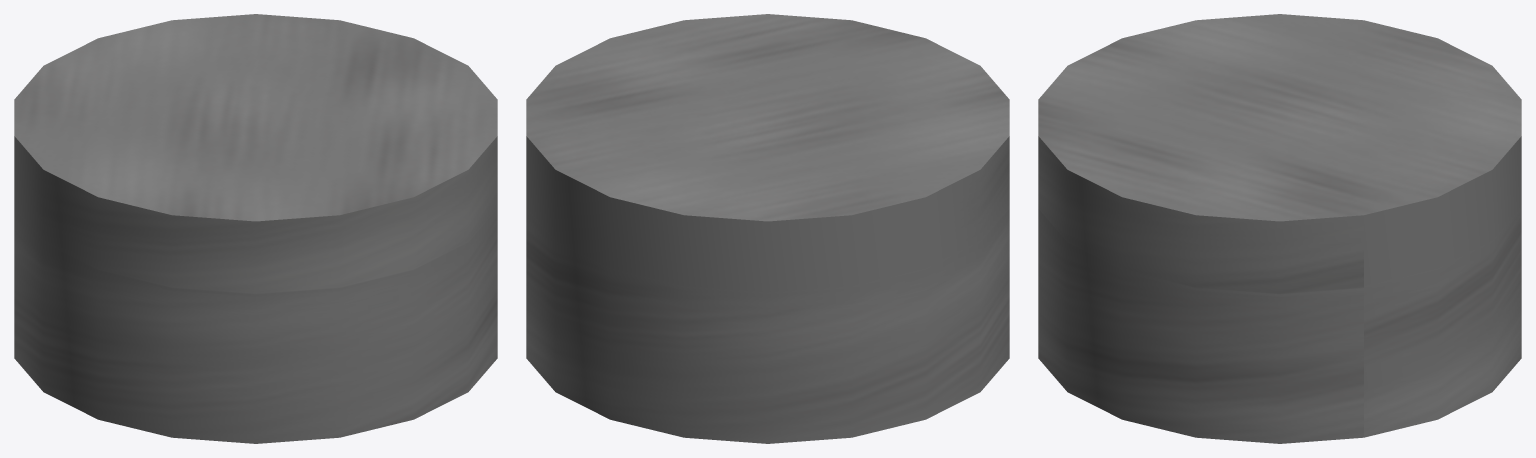
File: aluCylinder.obj
3 renders of one model, left to right at view 1: azimuth 30°, elevation 25°; view 2: azimuth 150°, elevation 25°; view 3: azimuth 270°, elevation 25°, orthographic.
Parts seen in each view (by area): view 1: pCylinder14; view 2: pCylinder14; view 3: pCylinder14.
Boxes of the visible parts, x1=… form: pCylinder14: x1=14, y1=14, x2=497, y2=443; pCylinder14: x1=526, y1=14, x2=1009, y2=443; pCylinder14: x1=1038, y1=14, x2=1521, y2=443.
Bounding box in the file's own units: 2 × 1 × 1.97.
Materials: 1 (1 with a texture image).
